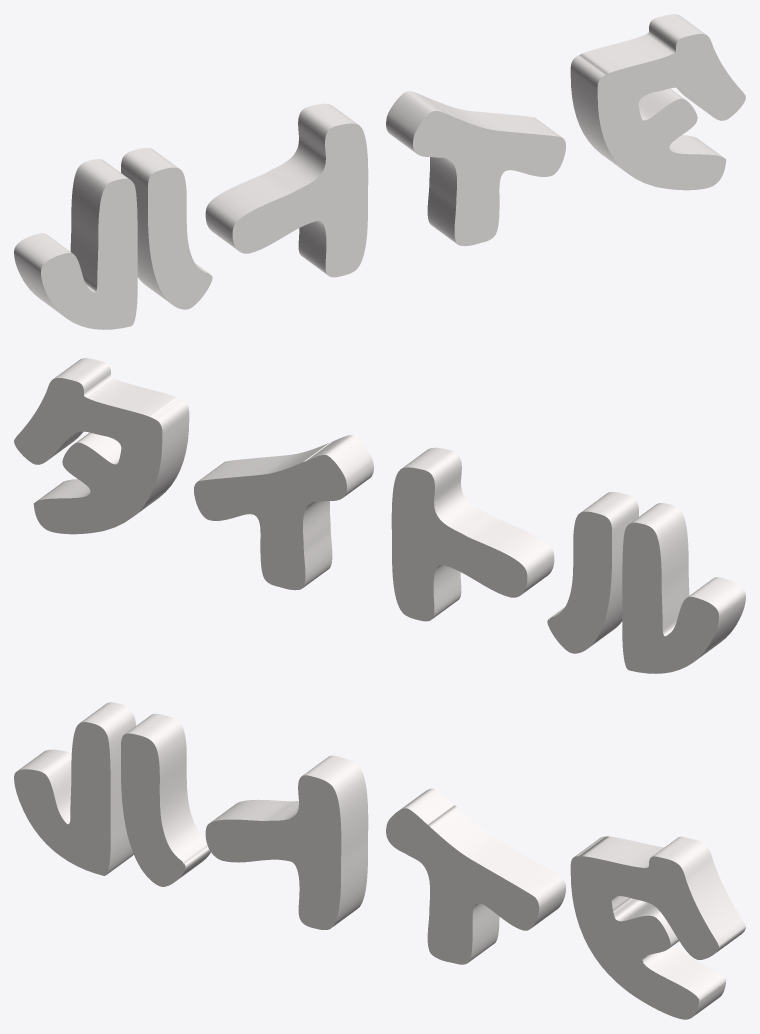
The model's file is title.obj.
3 views of the same model, one above another, from view 1: azimuth 30°, elevation 25°; view 2: azimuth 150°, elevation 25°; view 3: azimuth 330°, elevation 25° (orthographic).
Visible parts, largest first — view 1: タイトル; view 2: タイトル; view 3: タイトル.
Boxes of the visible parts, left/top/right/bottom form: タイトル: left=14, top=14, right=745, bottom=329; タイトル: left=14, top=358, right=745, bottom=673; タイトル: left=14, top=702, right=745, bottom=1019.
Size of the model in its own units: 3.02 by 0.6421 by 0.2.
